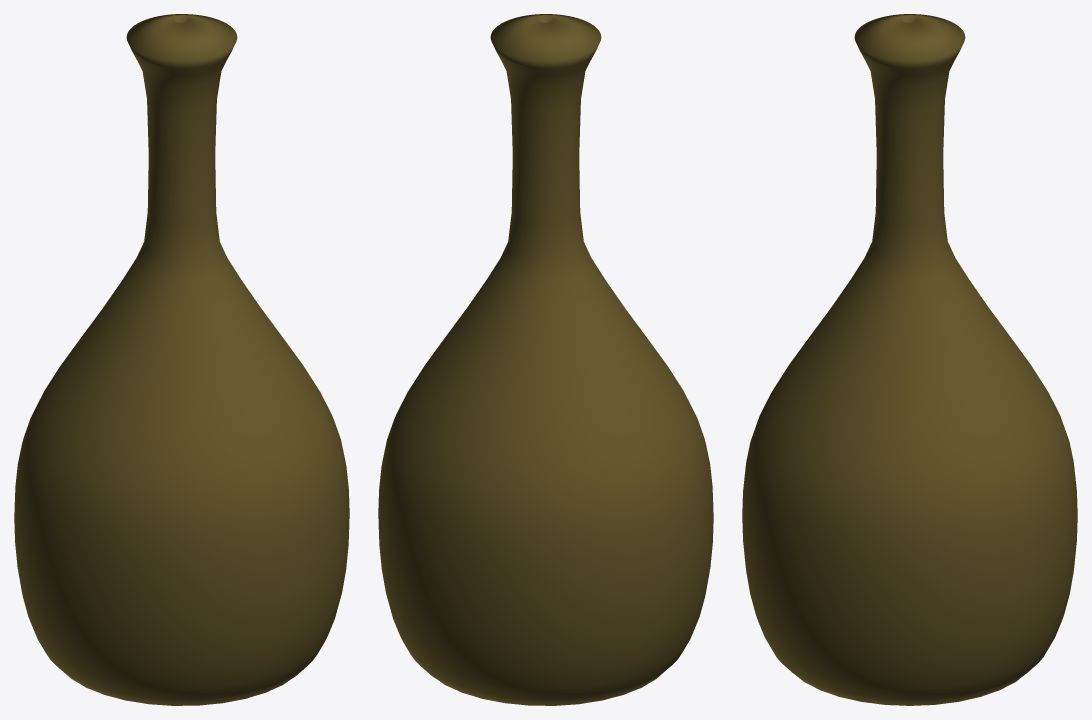
Rendered from bottle.fbx.
3 renders of one model, left to right at view 1: azimuth 30°, elevation 25°; view 2: azimuth 150°, elevation 25°; view 3: azimuth 270°, elevation 25°, orthographic.
Visible parts, largest first — view 1: Bottle; view 2: Bottle; view 3: Bottle.
Part boxes in pixels (bbox=[...]): Bottle: bbox=[14, 14, 349, 705]; Bottle: bbox=[378, 14, 713, 705]; Bottle: bbox=[742, 14, 1077, 705].
Bounding box in the file's own units: 32.75 × 69.47 × 32.75.
